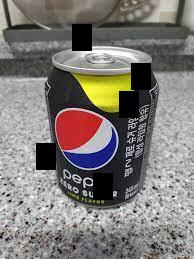pepsi_zero: (43, 39, 162, 209)
